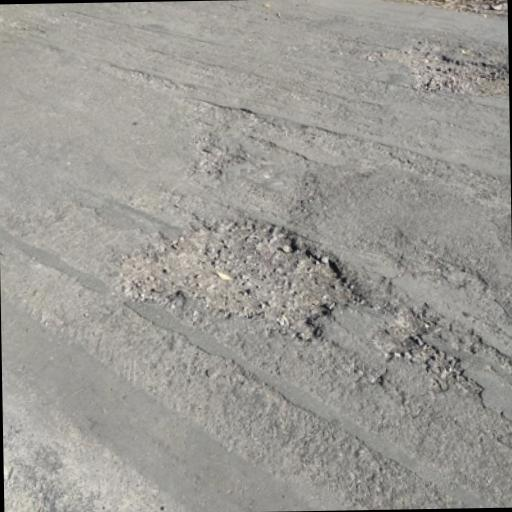pothole: (104, 206, 370, 350), (360, 33, 508, 98), (366, 303, 441, 359), (189, 142, 250, 178)
